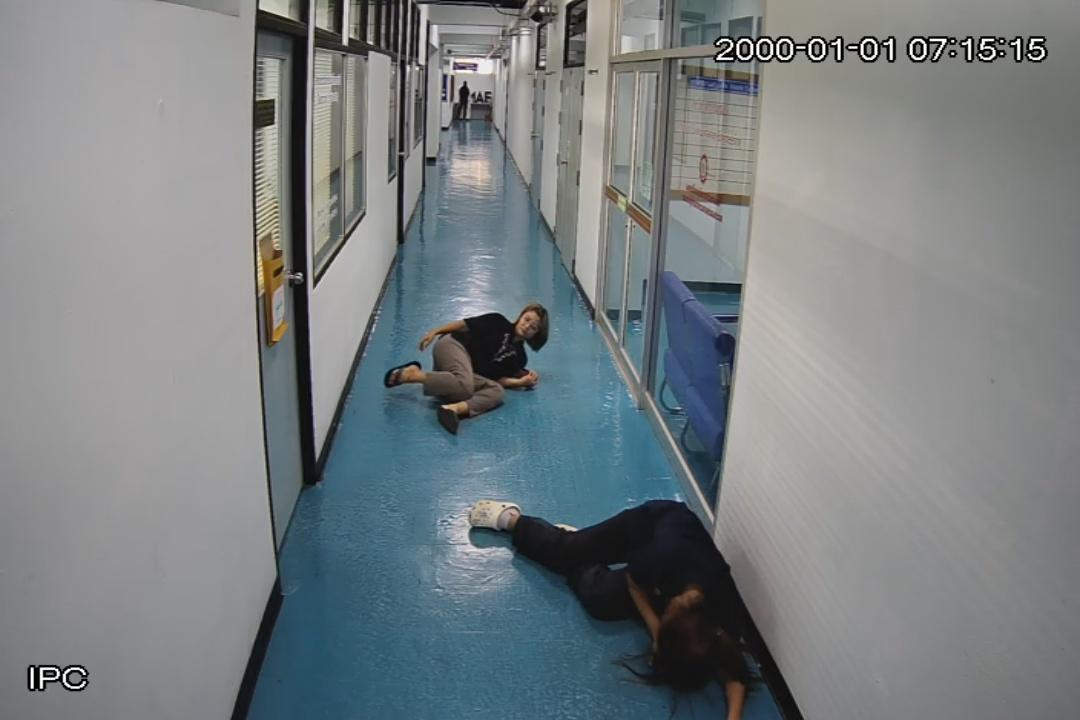fall: (466, 490, 754, 720), (383, 296, 560, 434)
